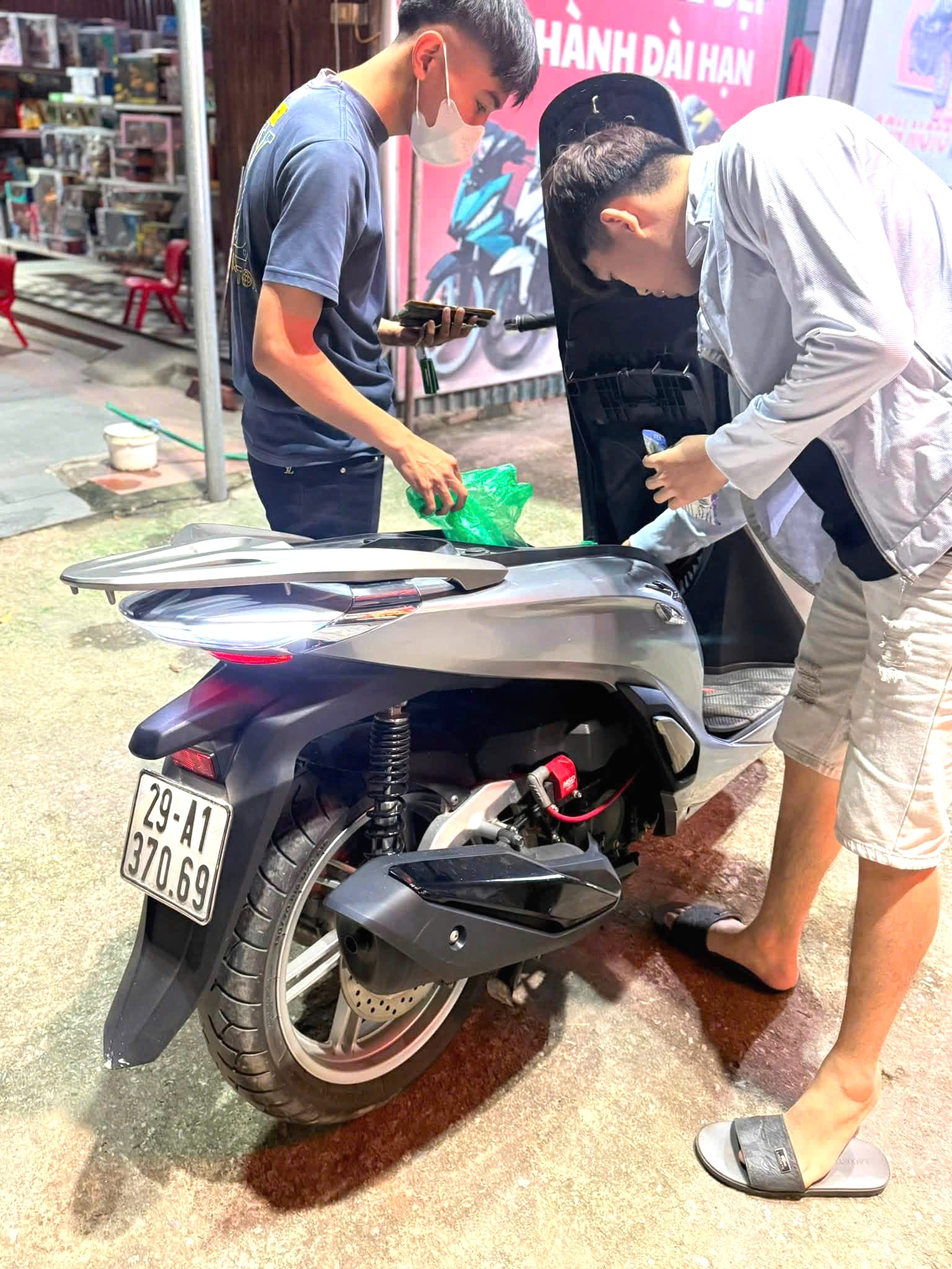Bien-so: (130, 801, 255, 949)
